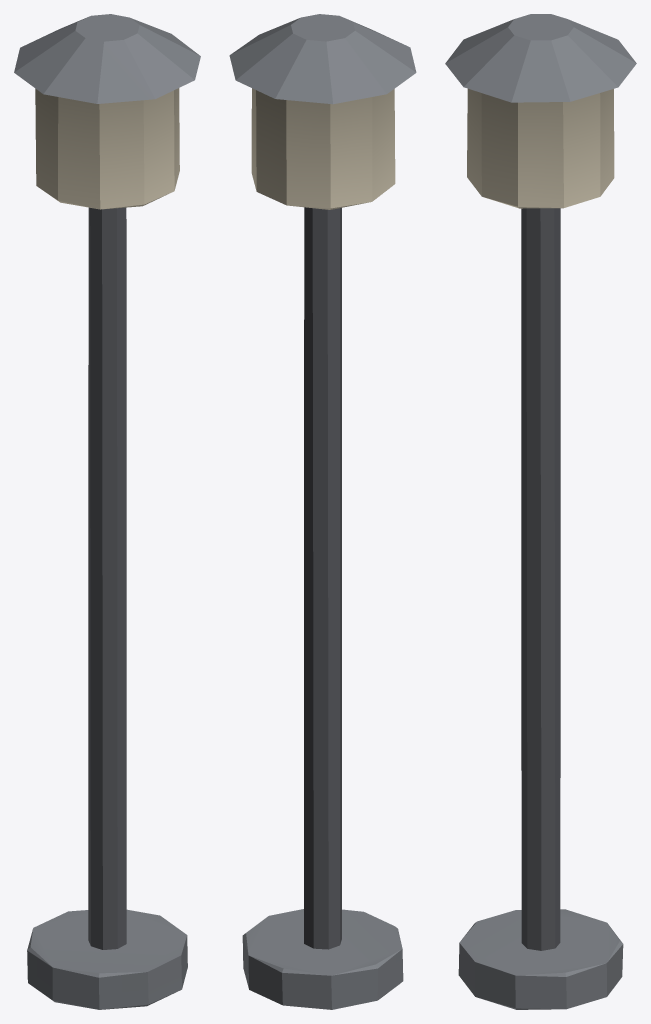
Rendered from garden_light_low.glb.
3 views of the same model, side by side, from view 1: azimuth 30°, elevation 25°; view 2: azimuth 150°, elevation 25°; view 3: azimuth 270°, elevation 25° (orthographic).
Size of the model in its own units: 0.2216 by 1.27 by 0.233.
